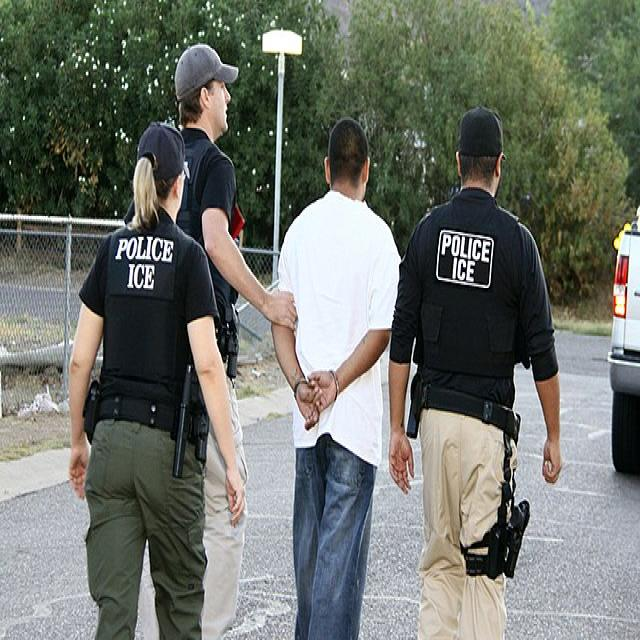police: (393, 89, 571, 640), (65, 101, 222, 640), (158, 47, 294, 396)
